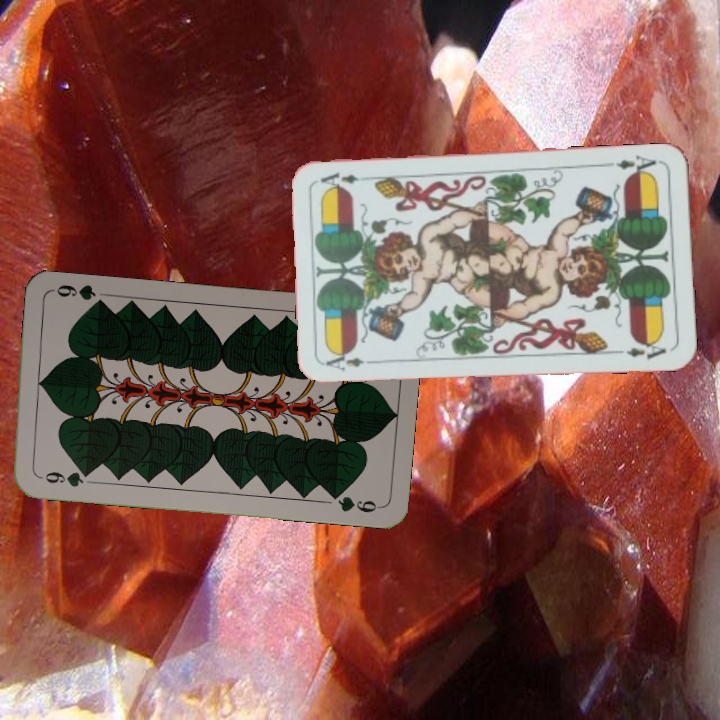EA: (605, 151, 664, 178), (322, 348, 381, 373)
G9: (34, 467, 94, 490)
